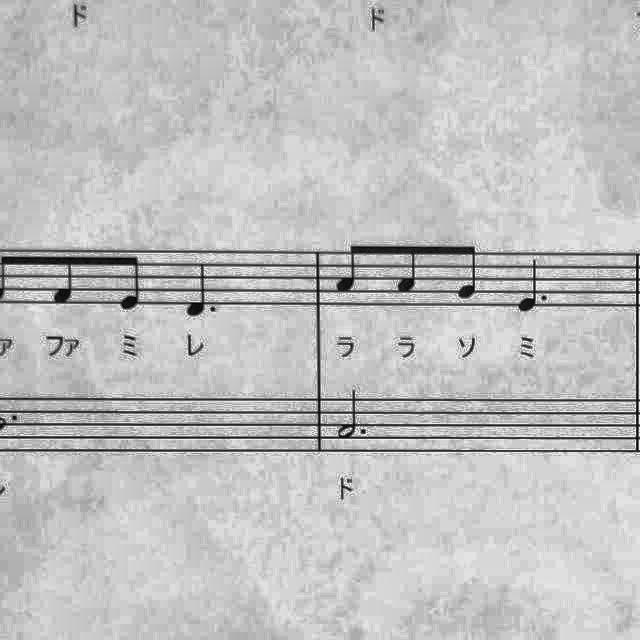Eighth-note: (115, 248, 154, 318), (454, 240, 491, 308), (48, 244, 84, 312), (331, 238, 369, 302), (392, 240, 428, 302)
Half-dot: (332, 387, 376, 445)
Quarter-dot: (181, 258, 223, 322), (516, 256, 556, 316)
